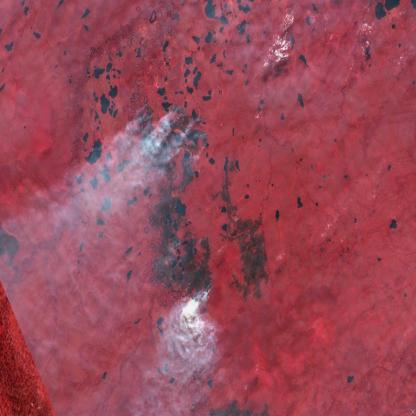fire: (131, 101, 207, 148), (182, 284, 214, 310)
